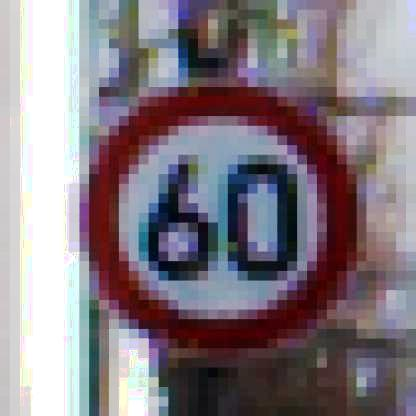Speed Limit -60-: (80, 80, 366, 362)
